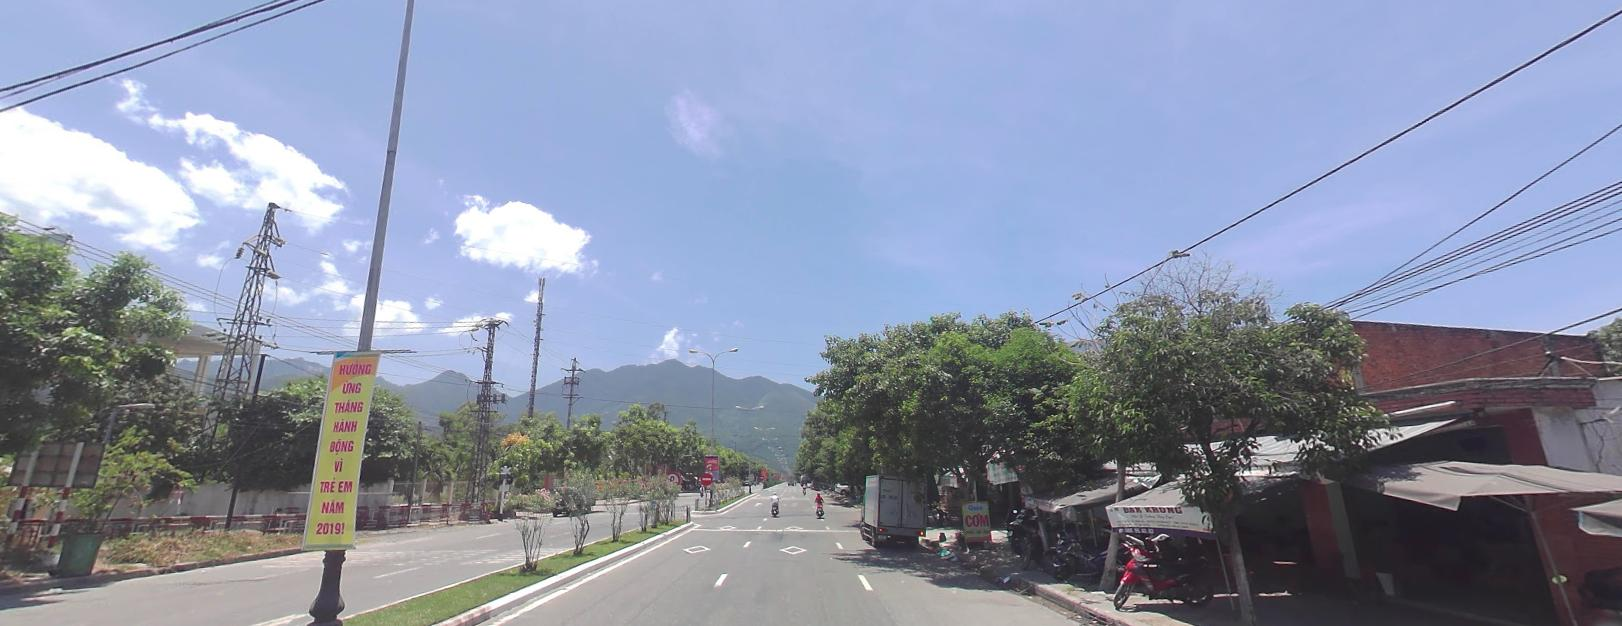Cam nguoc chieu: (699, 471, 714, 484)
Cam re: (665, 470, 680, 488)
